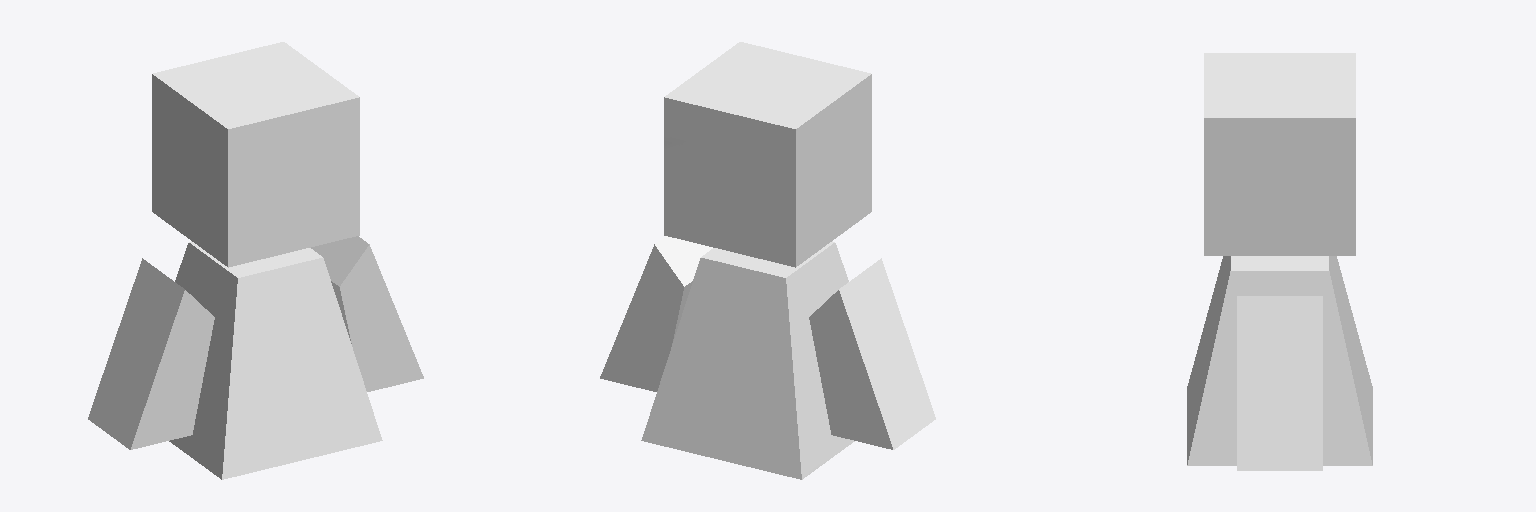
The picture shows the model from 3 angles: view 1: azimuth 30°, elevation 25°; view 2: azimuth 150°, elevation 25°; view 3: azimuth 270°, elevation 25°; orthographic projection.
Parts seen in each view (by area): view 1: 立方体, 立方体.001_立方体.003, 立方体.002_立方体.004, 立方体.003_立方体.001; view 2: 立方体, 立方体.001_立方体.003, 立方体.002_立方体.004, 立方体.003_立方体.001; view 3: 立方体, 立方体.001_立方体.003, 立方体.003_立方体.001.
Boxes of the visible parts, box(x1,y1,x2,y2) form: 立方体: box(152, 42, 359, 267); 立方体.001_立方体.003: box(169, 241, 382, 479); 立方体.002_立方体.004: box(88, 258, 214, 449); 立方体.003_立方体.001: box(311, 236, 423, 391); 立方体: box(664, 42, 871, 267); 立方体.001_立方体.003: box(641, 241, 854, 479); 立方体.002_立方体.004: box(809, 258, 935, 449); 立方体.003_立方体.001: box(600, 236, 712, 391); 立方体: box(1204, 53, 1355, 255); 立方体.001_立方体.003: box(1187, 256, 1372, 465); 立方体.003_立方体.001: box(1237, 296, 1322, 470).
Size of the model in its own units: 1.34 by 1.48 by 0.7303.
Materials: 4 (1 with a texture image).